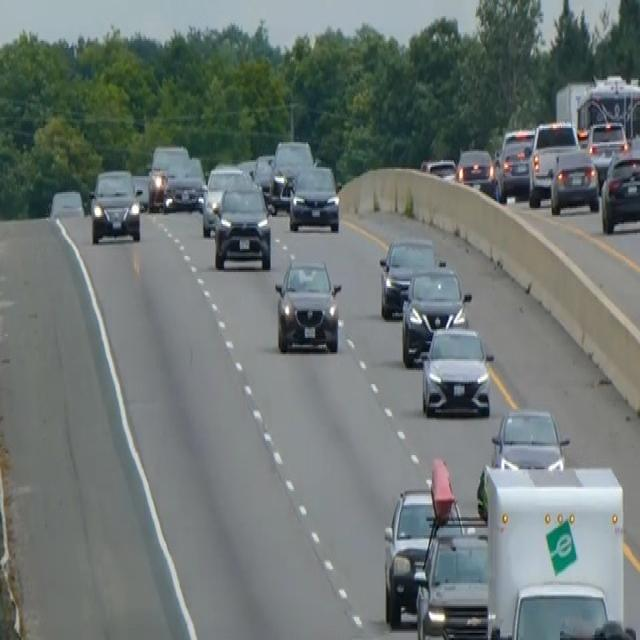car: (382, 484, 461, 626), (476, 405, 570, 519), (414, 519, 490, 638), (400, 262, 470, 366), (420, 323, 494, 418), (212, 182, 272, 270), (490, 405, 570, 471), (378, 233, 437, 318), (527, 118, 583, 206), (89, 166, 141, 243), (201, 160, 252, 236), (288, 162, 340, 233), (600, 144, 639, 233), (269, 137, 313, 211), (549, 151, 599, 215), (585, 117, 628, 187), (495, 126, 535, 201), (147, 142, 189, 210), (162, 156, 205, 212), (455, 144, 495, 196), (48, 187, 84, 220), (252, 151, 275, 199), (420, 155, 456, 183), (131, 170, 151, 210)
jeep: (272, 254, 343, 356)
truck: (479, 461, 629, 638)
